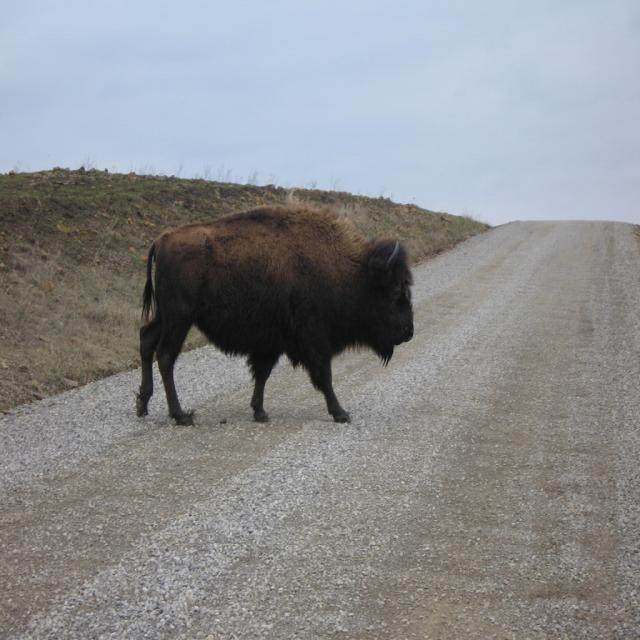Bull: (134, 204, 416, 430)
